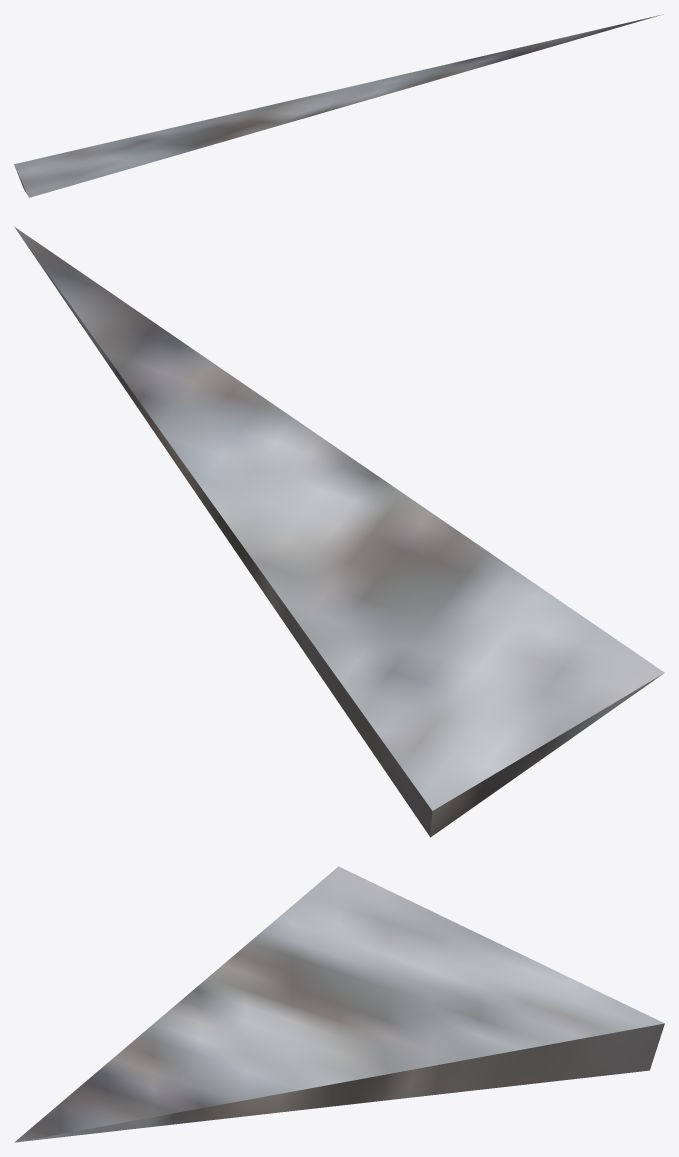
The model's file is Asteroid_Large_001_02_010_03_016.fbx.
The picture shows the model from 3 angles, top to bottom: view 1: azimuth 30°, elevation 25°; view 2: azimuth 150°, elevation 25°; view 3: azimuth 270°, elevation 25°; orthographic projection. The views are drawn at different scales.
Visible parts, largest first — view 1: Asteroid_Large_001_02_010_03_016; view 2: Asteroid_Large_001_02_010_03_016; view 3: Asteroid_Large_001_02_010_03_016.
Boxes of the visible parts, bbox=[...] form: Asteroid_Large_001_02_010_03_016: bbox=[14, 14, 663, 197]; Asteroid_Large_001_02_010_03_016: bbox=[14, 227, 664, 837]; Asteroid_Large_001_02_010_03_016: bbox=[14, 866, 664, 1142].
Bounding box in the file's own units: 1.14 × 0.3752 × 0.6434.
